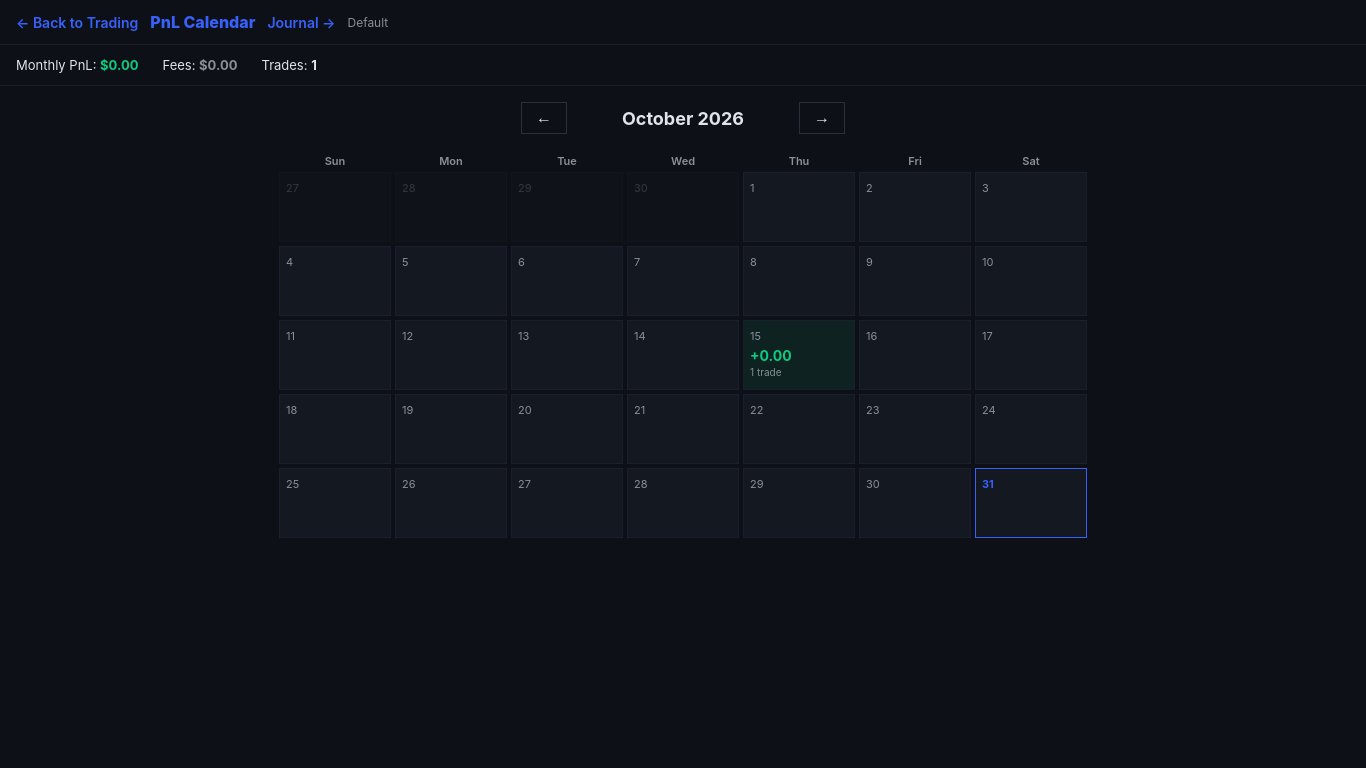
PnlCalendar — spread group rendering › renders a single-leg option open as a single row (not grouped)
Click the element showing "15 +0.00 1 trade": (799, 355) left=743, top=320, right=855, bottom=390
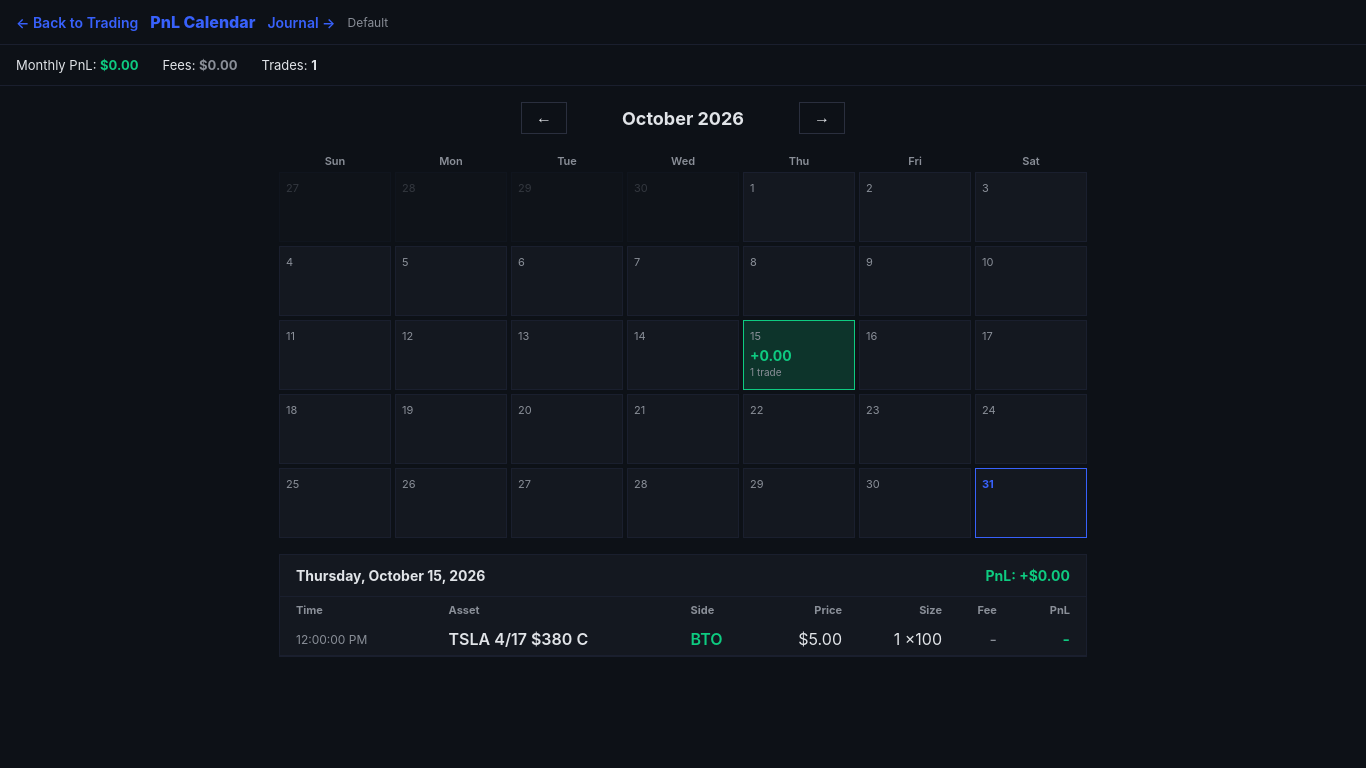
Expected: the text "BTO" is shown, left=682, top=623, right=757, bottom=656
Expected: the text "TSLA 4/17 $380 C" is shown, left=441, top=623, right=682, bottom=656
